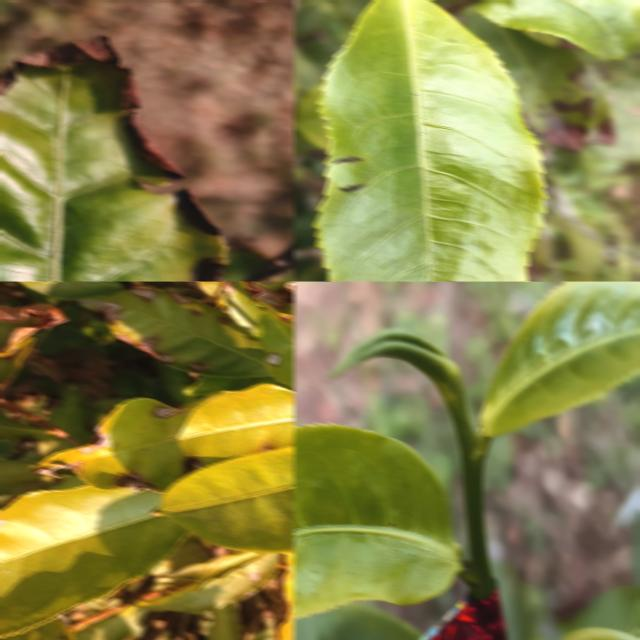Leaf: (314, 0, 546, 281), (0, 38, 225, 281), (293, 423, 462, 618), (0, 485, 187, 636), (37, 383, 295, 490), (479, 281, 640, 436), (467, 15, 593, 148), (89, 285, 268, 378), (159, 445, 295, 553), (476, 0, 640, 58), (148, 553, 279, 613), (256, 307, 295, 390), (0, 303, 67, 350), (605, 80, 640, 160), (241, 281, 295, 329), (17, 281, 122, 299), (0, 617, 75, 640), (0, 409, 54, 438), (0, 459, 41, 495), (205, 604, 242, 640)
